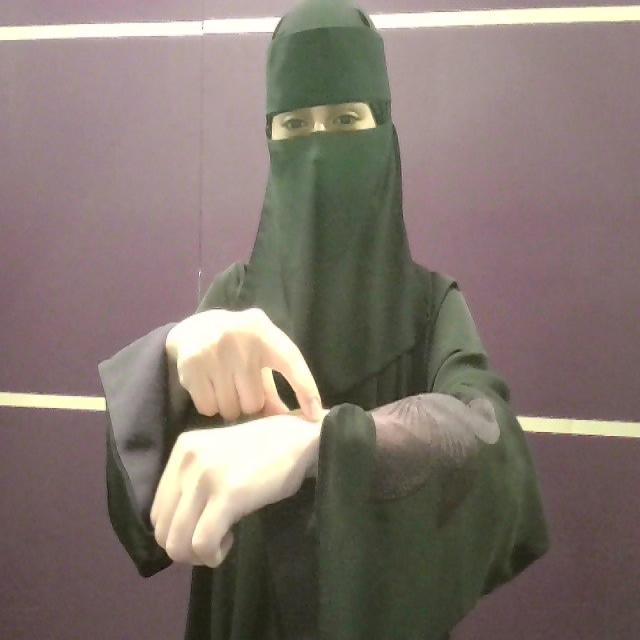appointment: (149, 302, 321, 569)
